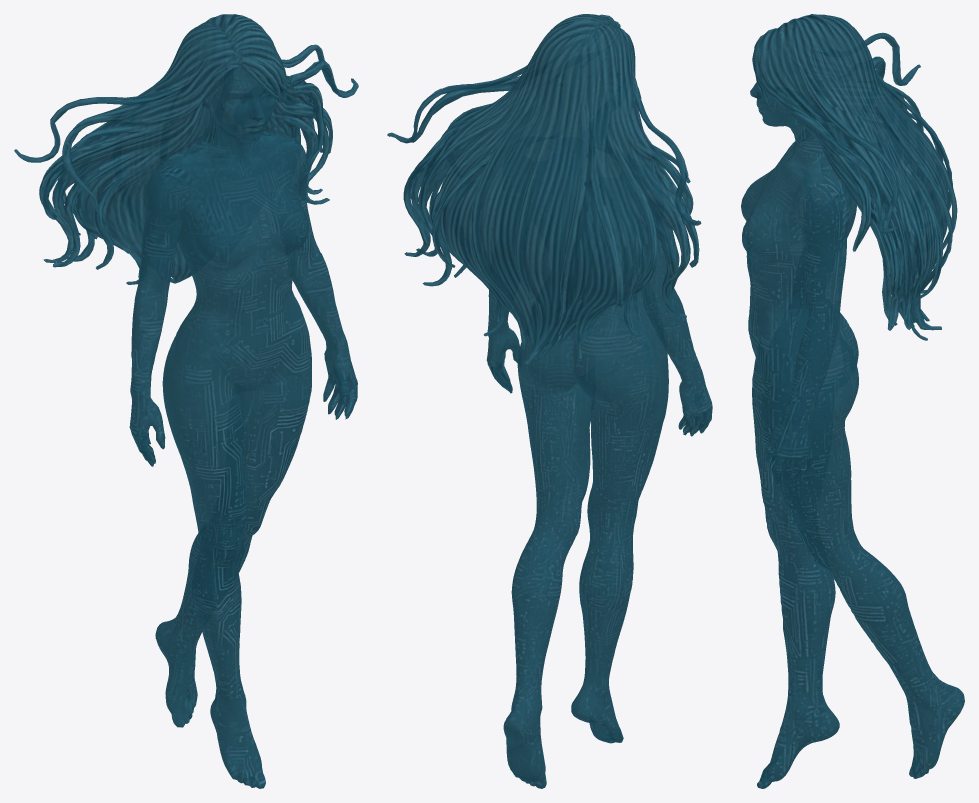
Rendered from partner.glb.
3 views of the same model, side by side, from view 1: azimuth 30°, elevation 25°; view 2: azimuth 150°, elevation 25°; view 3: azimuth 270°, elevation 25° (orthographic). The views are drawn at different scales.
Parts seen in each view (by area): view 1: tripo_node_14aa1fac-5a03-490c-9a81-3c6ed364b618; view 2: tripo_node_14aa1fac-5a03-490c-9a81-3c6ed364b618; view 3: tripo_node_14aa1fac-5a03-490c-9a81-3c6ed364b618.
Part boxes in pixels (x1,y1,x2,y2): tripo_node_14aa1fac-5a03-490c-9a81-3c6ed364b618: (14, 14, 358, 788); tripo_node_14aa1fac-5a03-490c-9a81-3c6ed364b618: (387, 14, 712, 788); tripo_node_14aa1fac-5a03-490c-9a81-3c6ed364b618: (741, 14, 964, 788).
Size of the model in its own units: 0.4479 by 0.9807 by 0.2584.
1 material, 1 textured.
